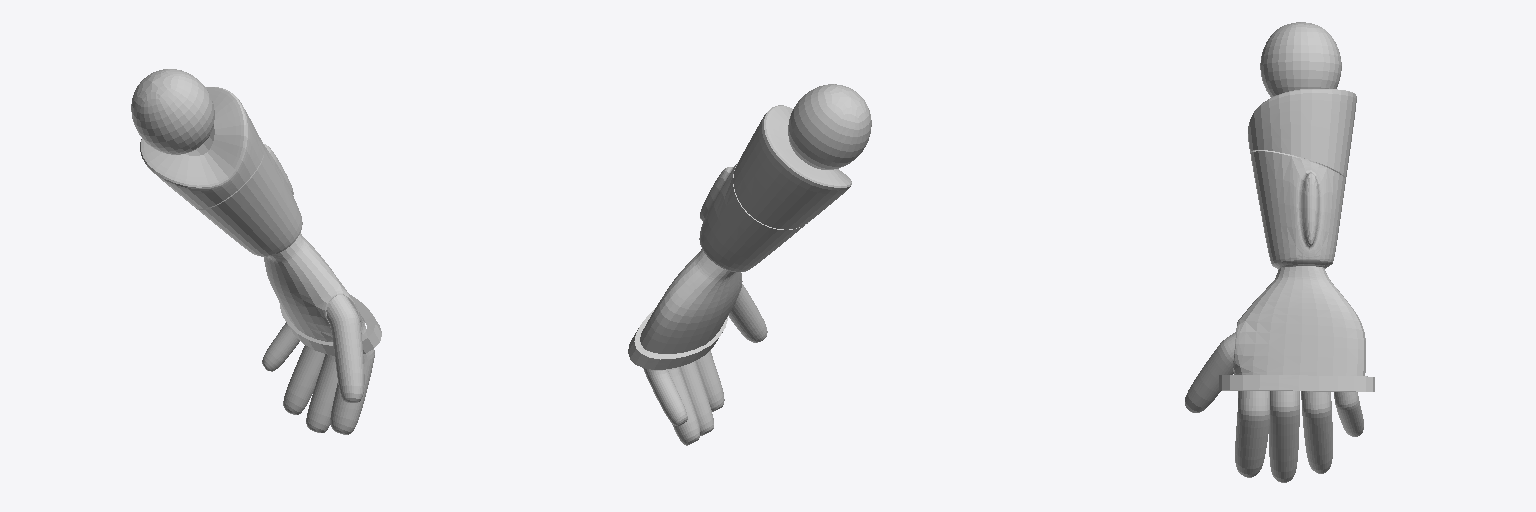
The model's file is Buzz_Right_Elbow.obj.
The picture shows the model from 3 angles: view 1: azimuth 30°, elevation 25°; view 2: azimuth 150°, elevation 25°; view 3: azimuth 270°, elevation 25°; orthographic projection.
Parts seen in each view (by area): view 1: Sphere_001.001; view 2: Sphere_001.001; view 3: Sphere_001.001.
Boxes of the visible parts, box(x1,y1,x2,y2) form: Sphere_001.001: box(131, 69, 381, 434); Sphere_001.001: box(628, 84, 871, 445); Sphere_001.001: box(1185, 22, 1374, 482).
Size of the model in its own units: 1.38 by 2.35 by 1.05.